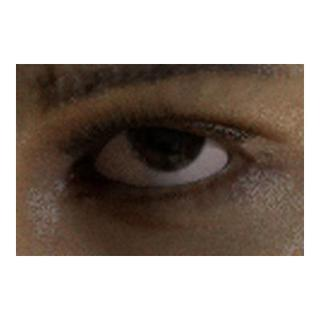pupil: (148, 114, 183, 150)
